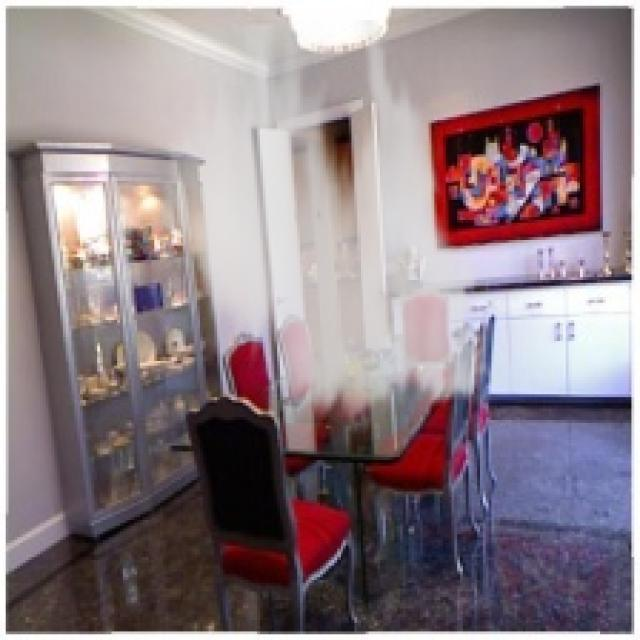Smoke: (148, 20, 503, 437)
